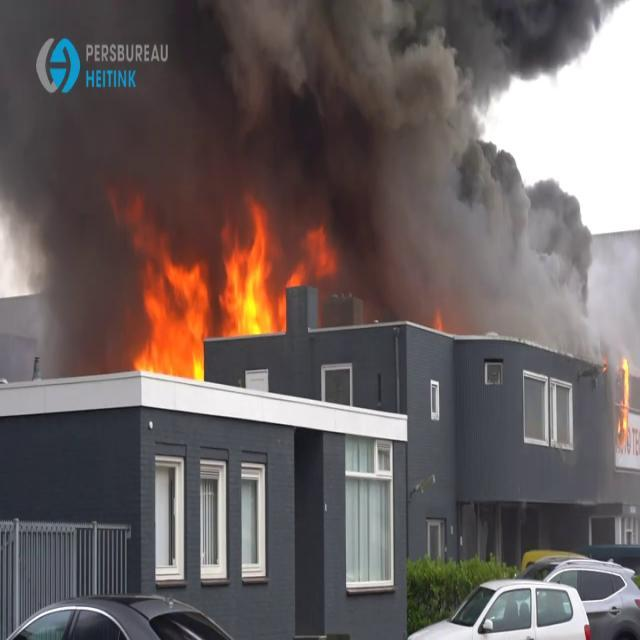Fire: (125, 208, 288, 384), (617, 353, 632, 442)
Smoke: (0, 0, 616, 316)
